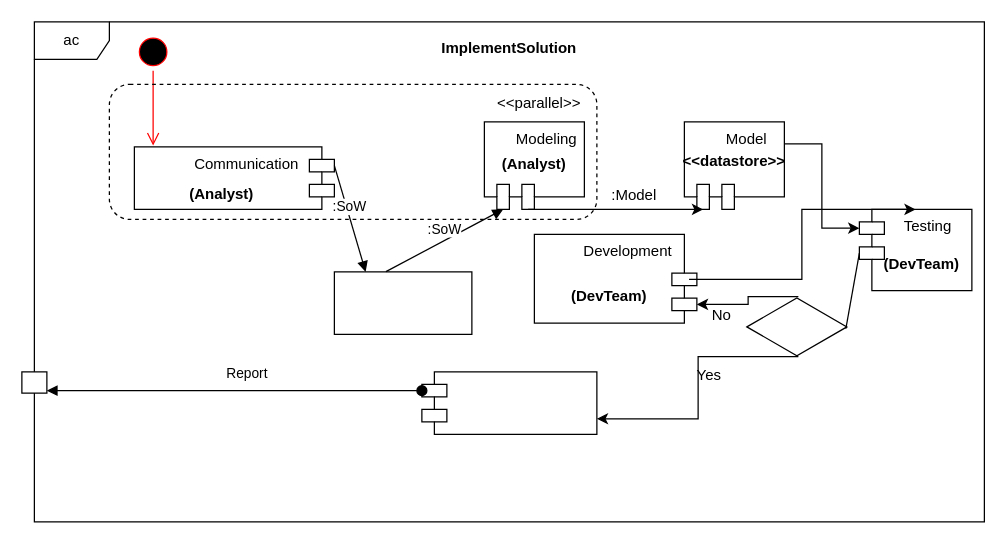
The diagram is 1006 pixels wide and 544 high, and some of its shapes have lost their labels. The centre of each missing label's shape, as x and y in pixels:
"Deployment" goes at (509,402).
"IsCorrect" goes at (796,326).
"Preparing" goes at (402,302).
